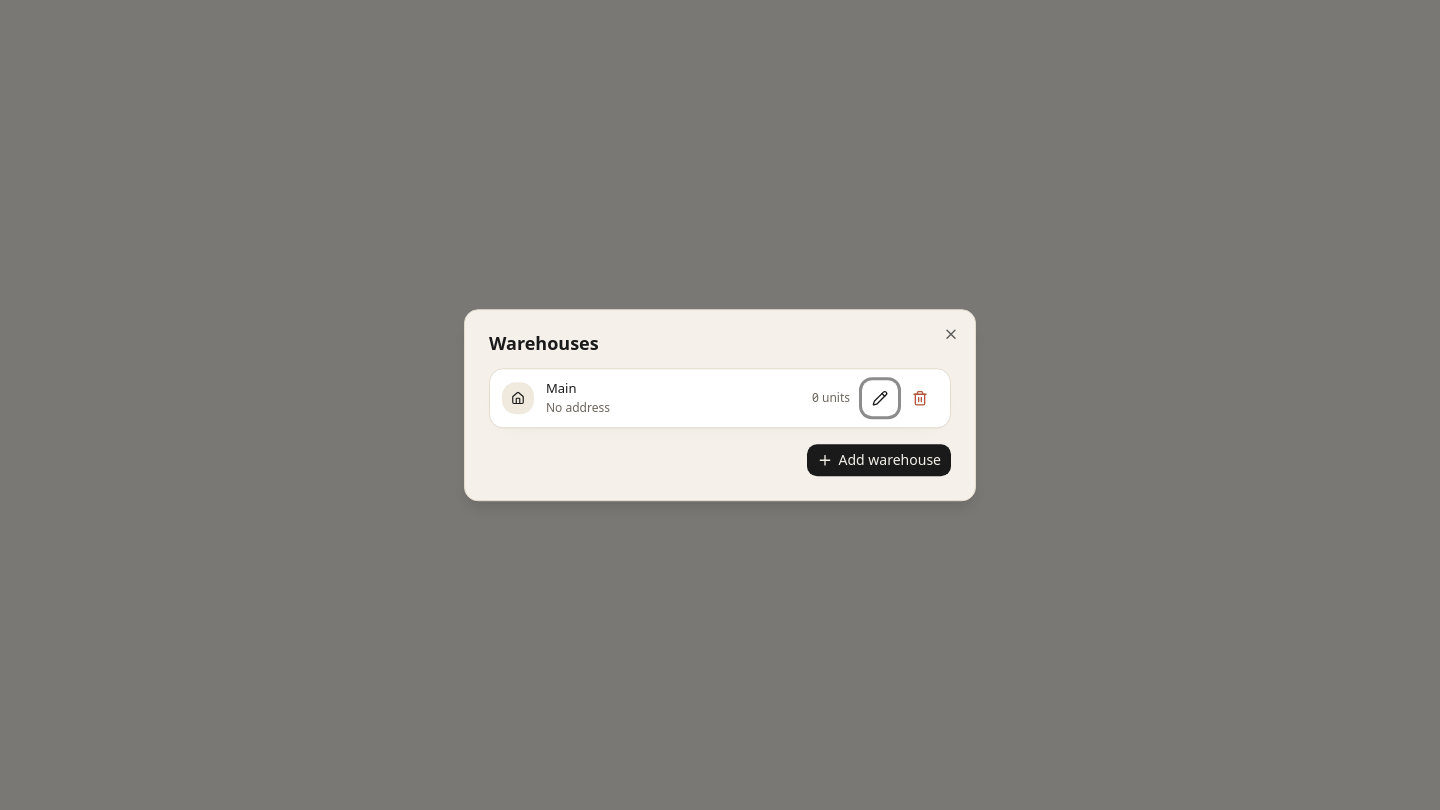
Test: WarehousesDialog › warns before deleting a warehouse whose only row holds 0 units
Click the button named "Delete warehouse". click: [920, 398]
box: [902, 380, 938, 416]
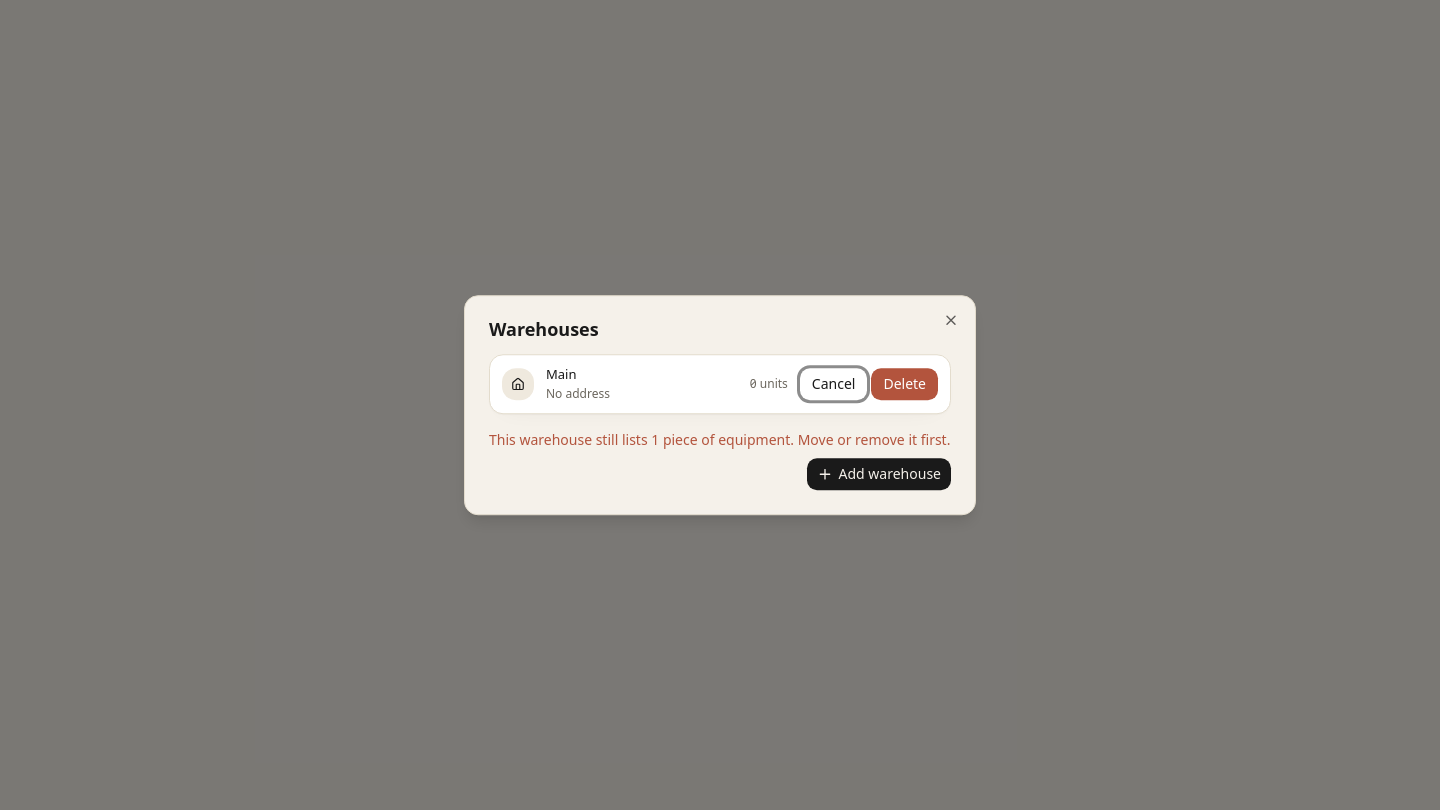
Expected: the text "still lists 1 piece of equipment" is shown, [489, 430, 950, 449]
